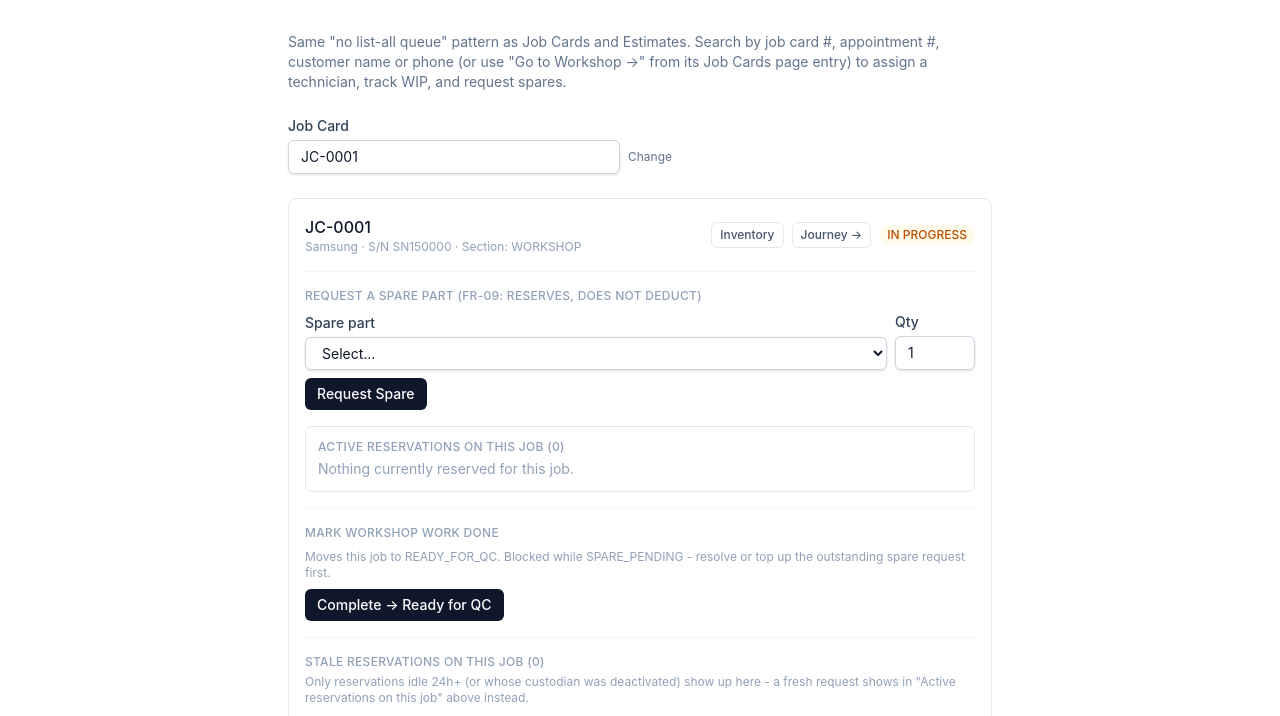
Test: WorkshopPage - inline Stock lookup pill (Modification Request 2026-09-15) › closes the modal via its close control, returning to the plain job card view
Click the button "Inventory" at (747, 235), box [711,222,784,248]
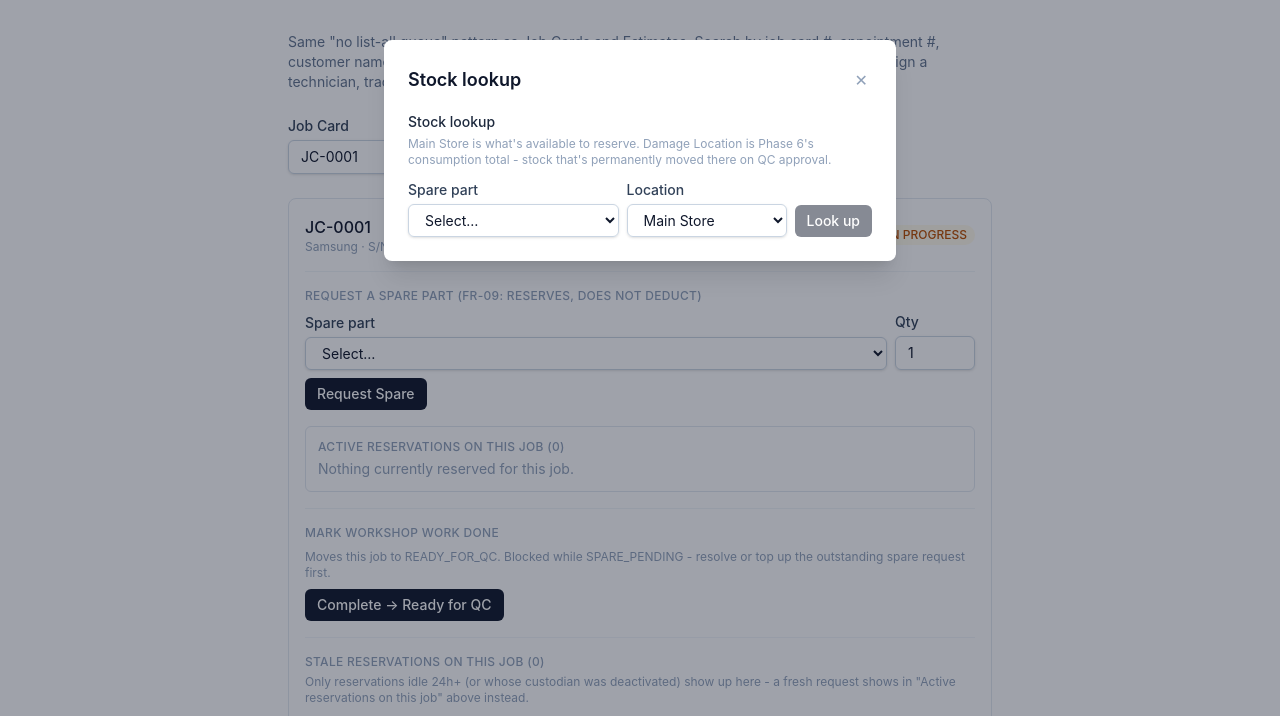
Check: the dialog "Stock lookup" is shown, box [384,40,896,261]
Click the button named "Close" at (861, 80), box [851,64,872,96]
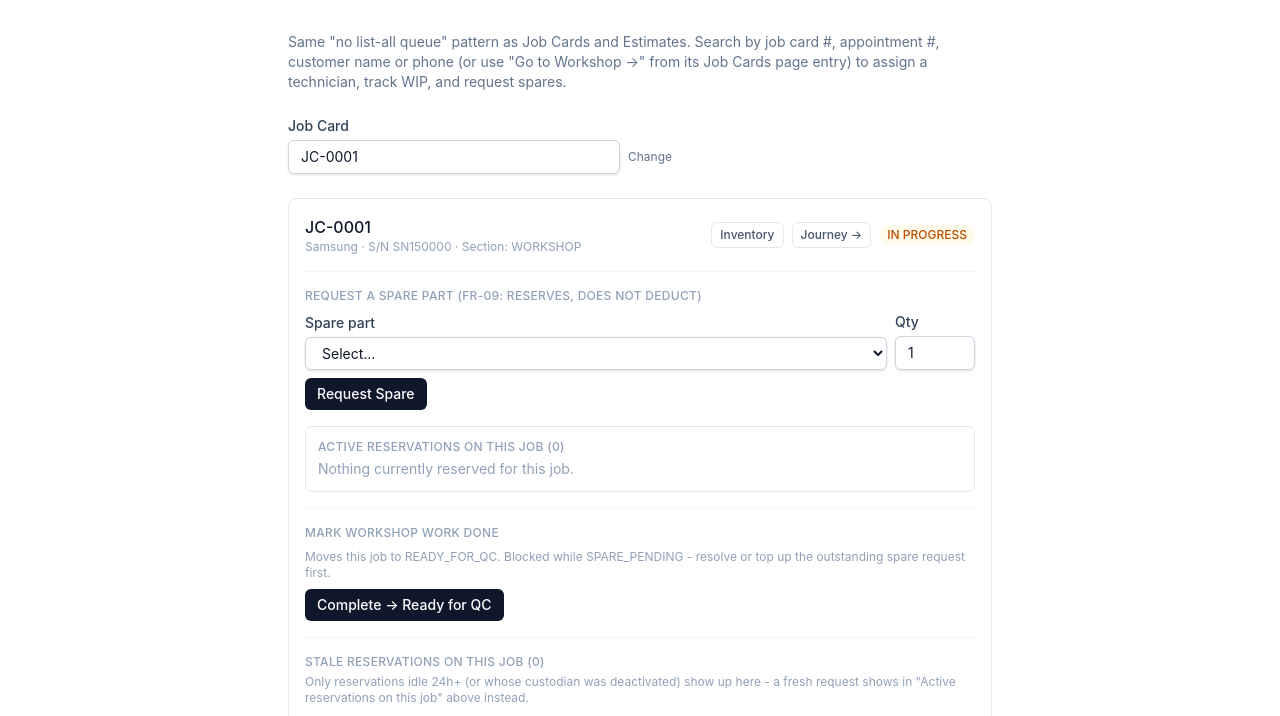
Check: the dialog is gone
